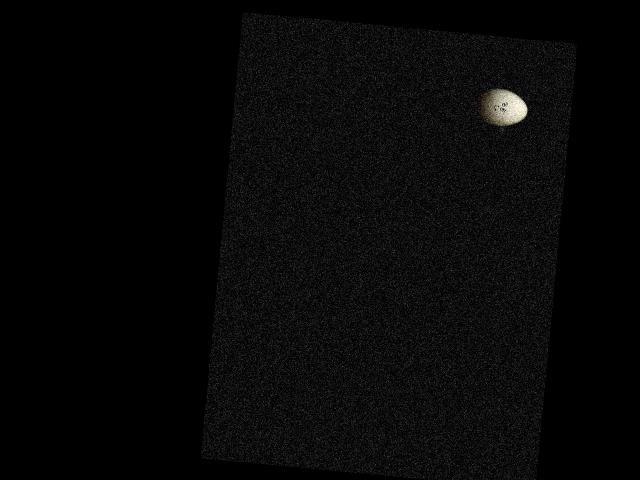egg: (477, 86, 529, 127)
